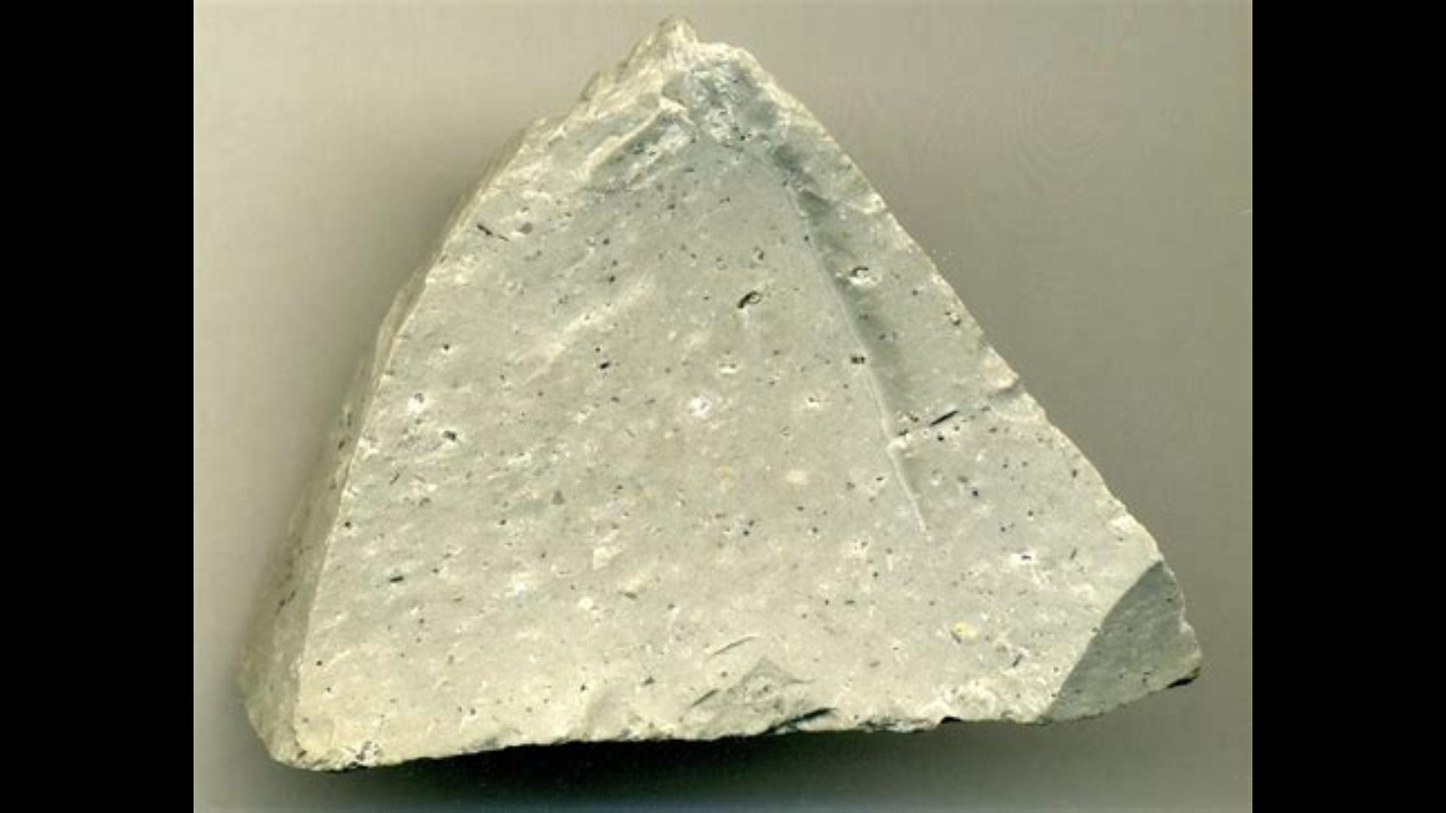rock: (247, 25, 1197, 768)
